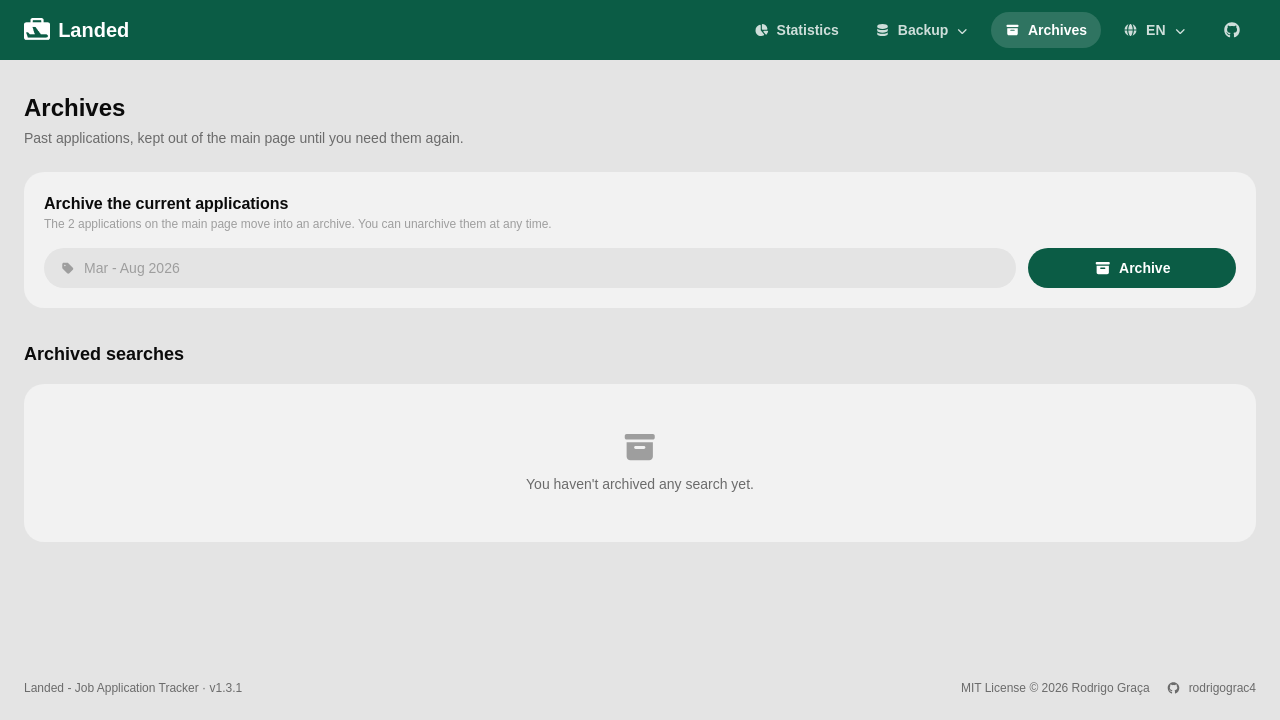
Test: archiving a search › moves every application into a named archive
Type "First job hunt" into the field named "Archive name" at [530, 268], box [44, 248, 1016, 288]
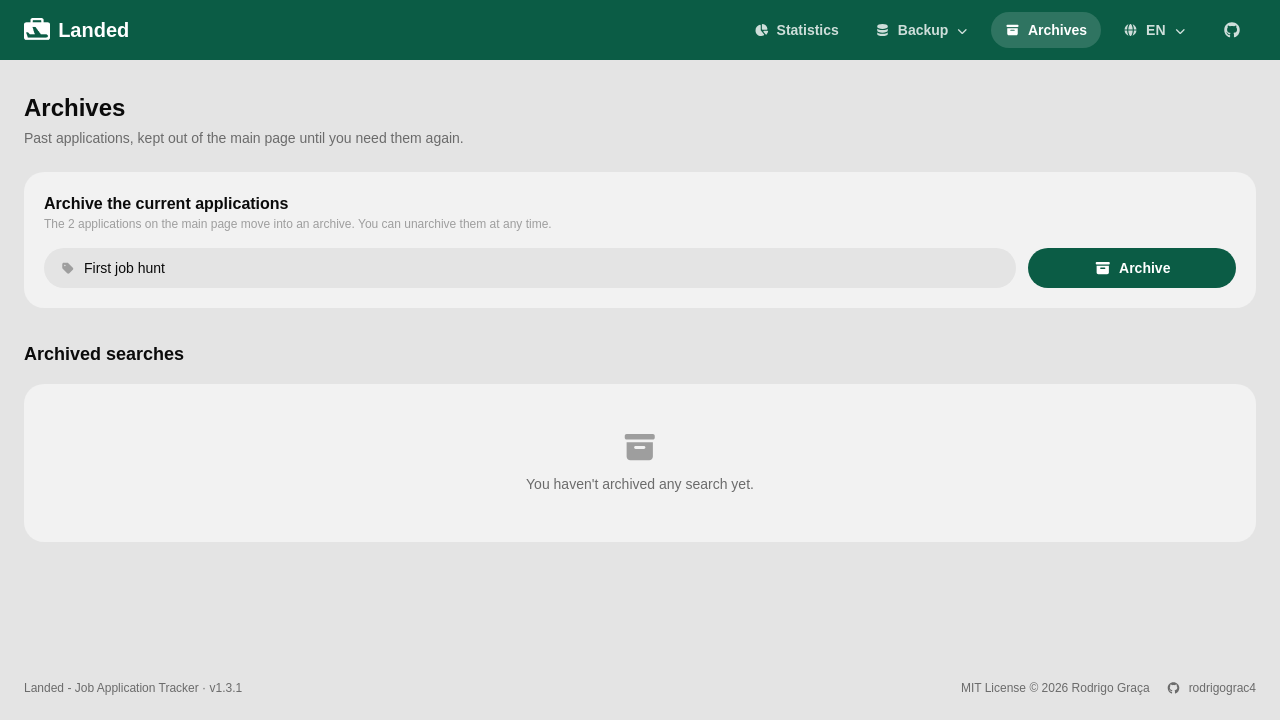
Click the button "Archive" at [1132, 268], box [1028, 248, 1236, 288]
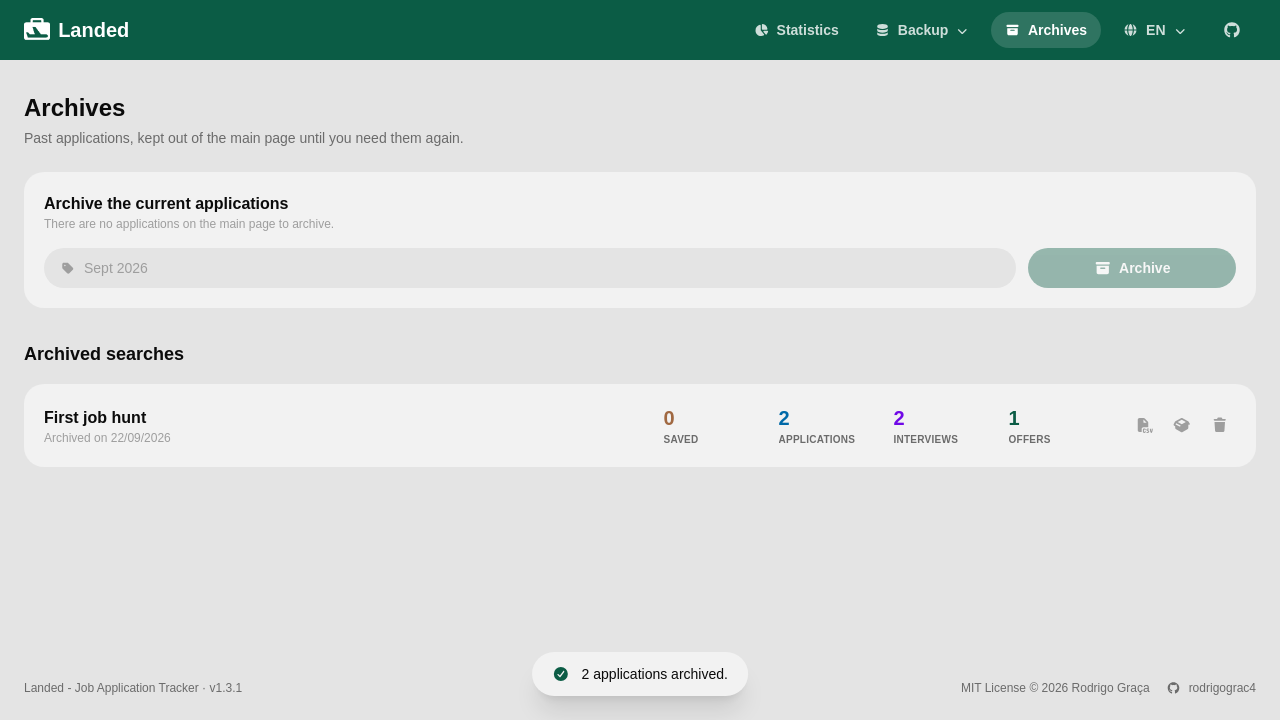
Expected: the heading "First job hunt" is shown, [44, 408, 146, 426]
Expected: the text "2 applications archived." is shown, [582, 664, 728, 684]
